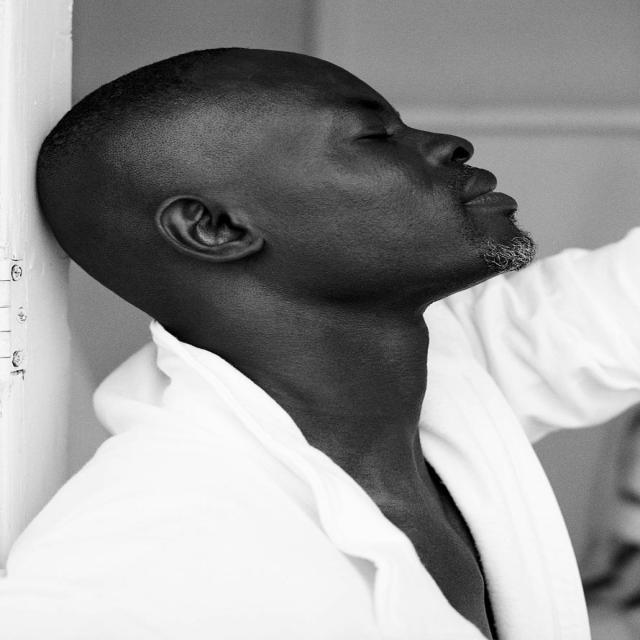no-earmuff: (146, 183, 273, 274)
